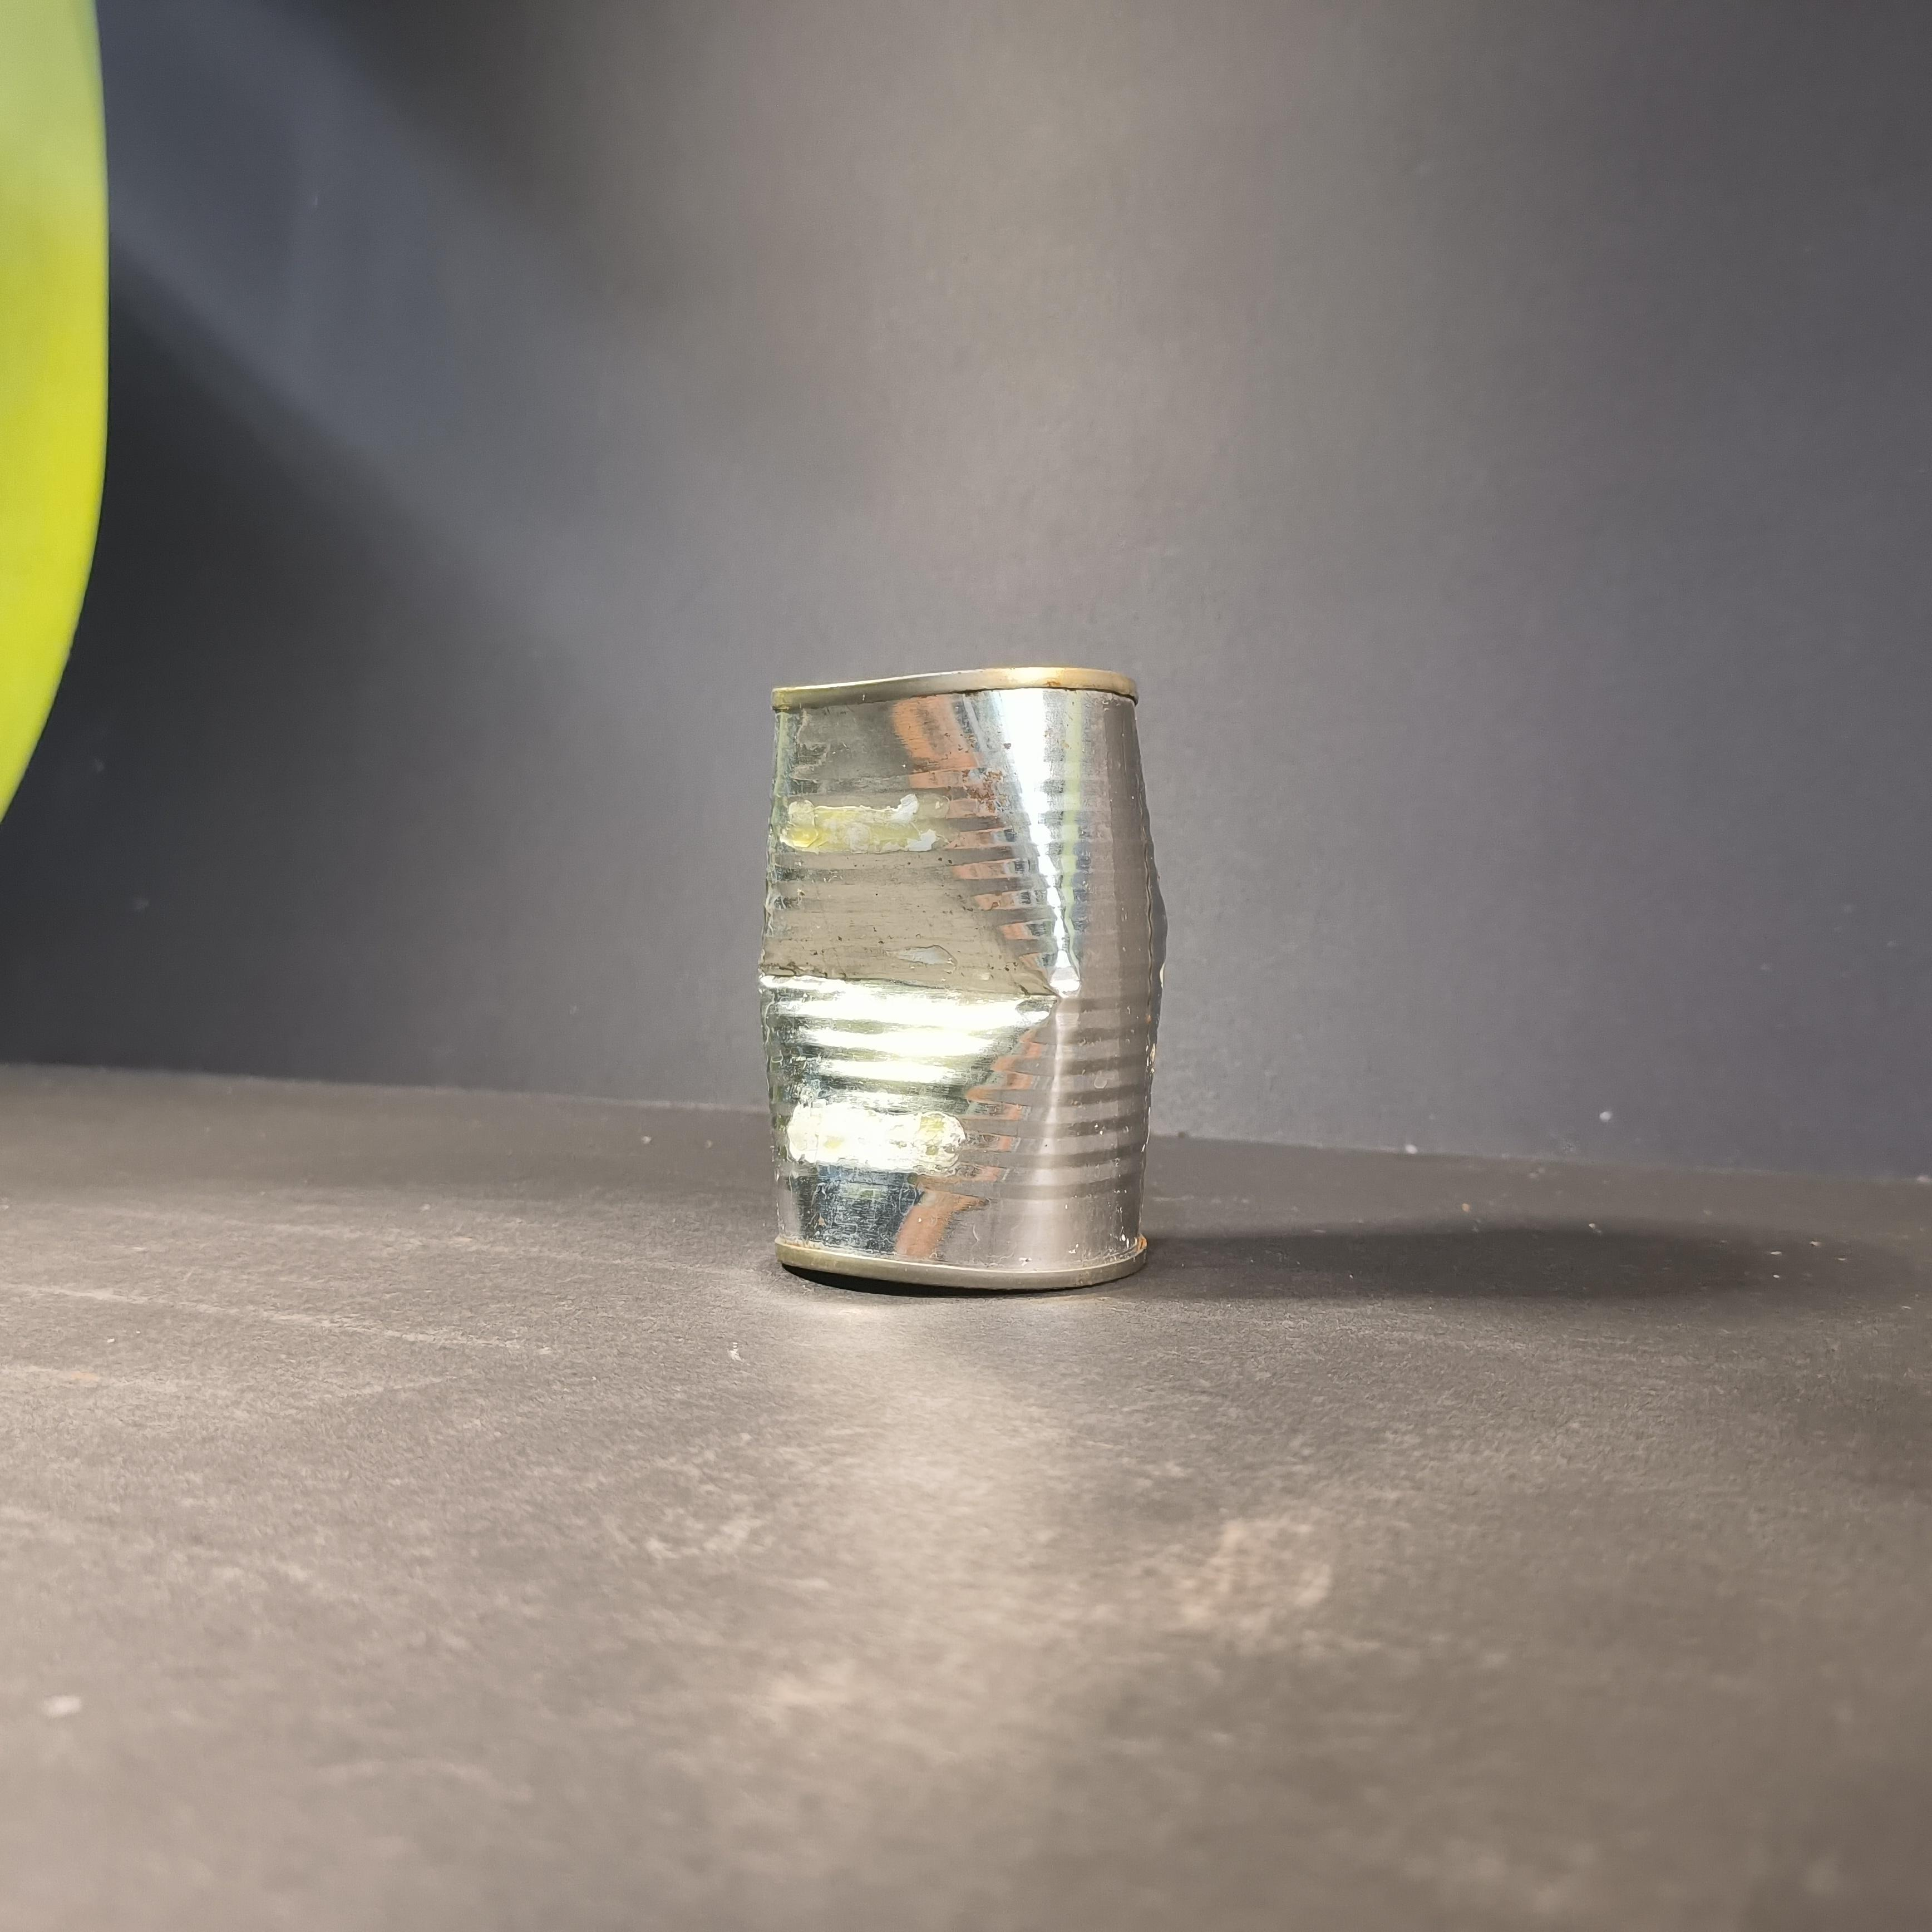Dented: (701, 621, 1175, 1316)
